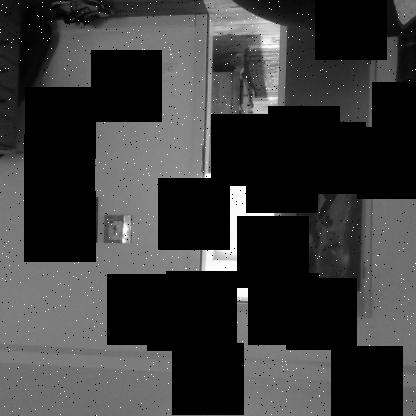Porte: (182, 0, 374, 340)
